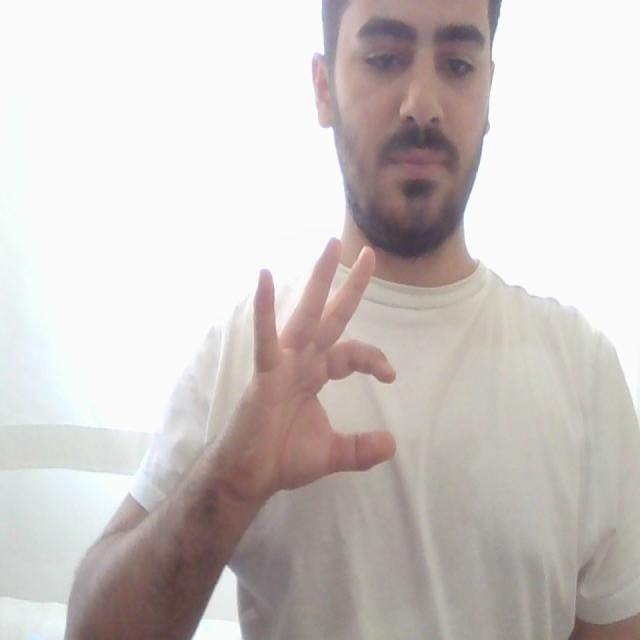Tuvalet: (208, 211, 440, 510)
